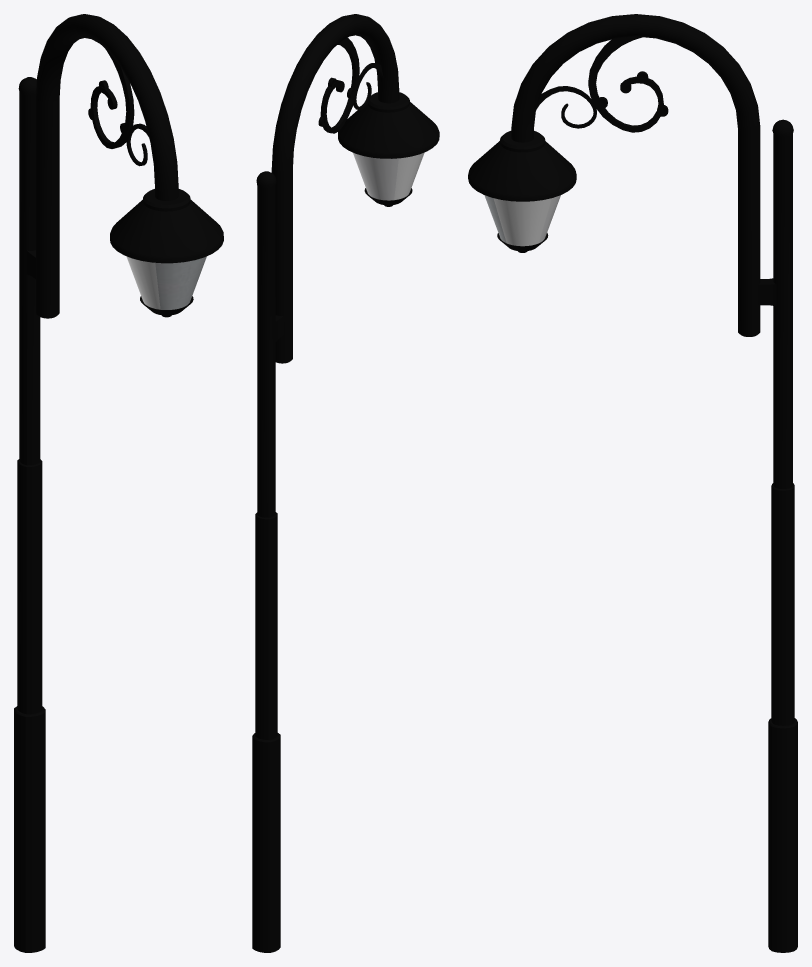
File: uploads_files_5104660_Tall_Street_Lamp.obj
The picture shows the model from 3 angles, left to right: view 1: azimuth 30°, elevation 25°; view 2: azimuth 150°, elevation 25°; view 3: azimuth 270°, elevation 25°; orthographic projection. The views are drawn at different scales.
Visible parts, largest first — view 1: Lamp; view 2: Lamp; view 3: Lamp.
Boxes of the visible parts, x1=… form: Lamp: x1=14, y1=14, x2=223, y2=952; Lamp: x1=252, y1=14, x2=439, y2=952; Lamp: x1=468, y1=14, x2=797, y2=952.
Size of the model in its own units: 0.48 by 4.54 by 1.46.
